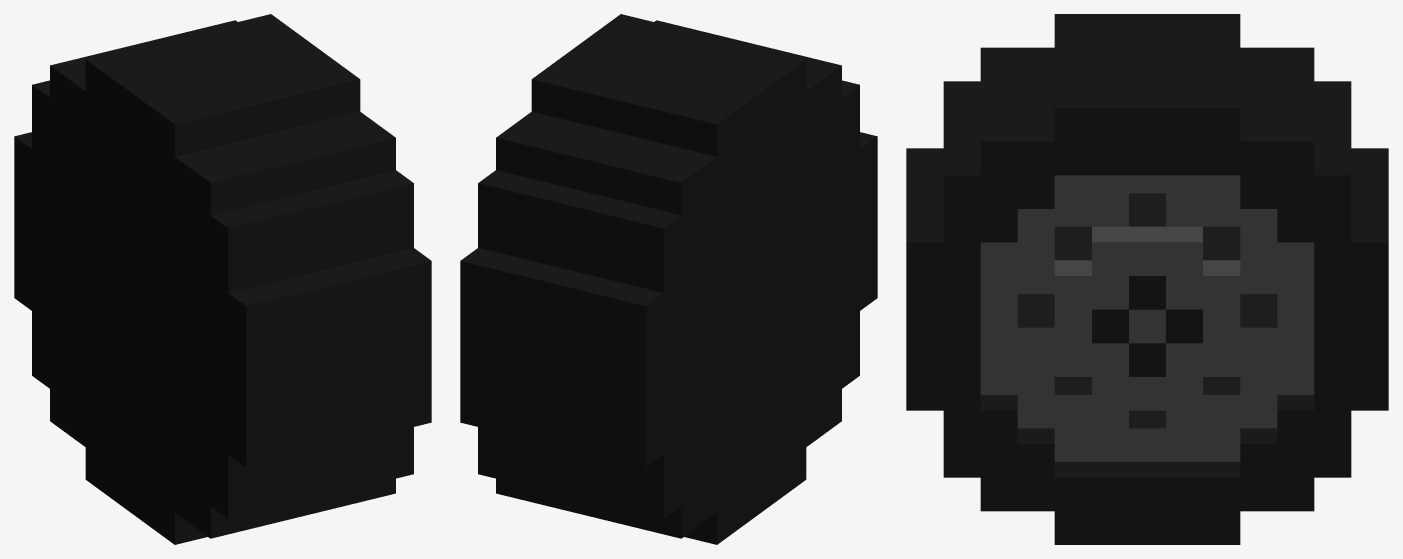
File: Gosling-2-wbr.obj
The picture shows the model from 3 angles, left to right: view 1: azimuth 30°, elevation 25°; view 2: azimuth 150°, elevation 25°; view 3: azimuth 270°, elevation 25°; orthographic projection. The views are drawn at different scales.
Parts seen in each view (by area): view 1: wbr; view 2: wbr; view 3: wbr.
Boxes of the visible parts, bbox=[...] form: wbr: bbox=[14, 14, 431, 544]; wbr: bbox=[460, 14, 877, 544]; wbr: bbox=[906, 14, 1388, 544].
Bounding box in the file's own units: 0.6 × 1.3 × 1.3.
1 material, 1 textured.
